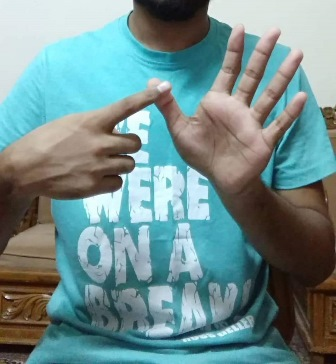a: (68, 22, 303, 198)
